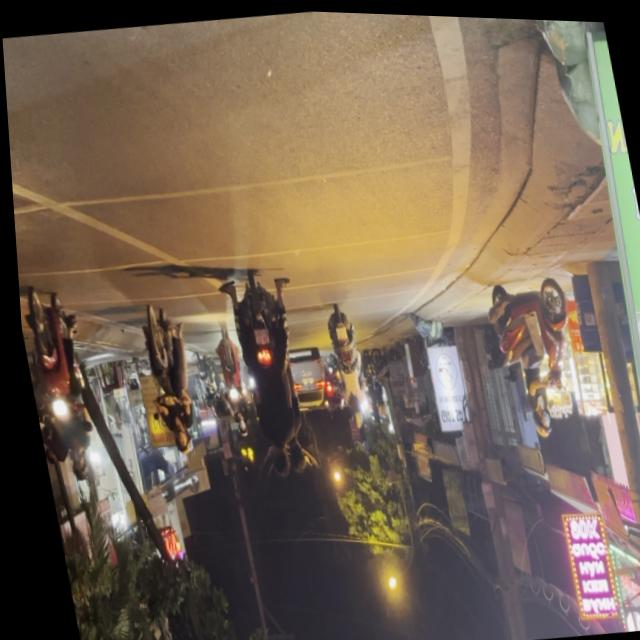helmet: (525, 398, 548, 437), (59, 448, 82, 483)
licenseplate: (209, 253, 319, 484), (473, 265, 586, 443), (15, 281, 99, 491)
motorcyclist: (260, 439, 286, 477), (278, 432, 302, 473)
nohelmet: (247, 324, 264, 343)
